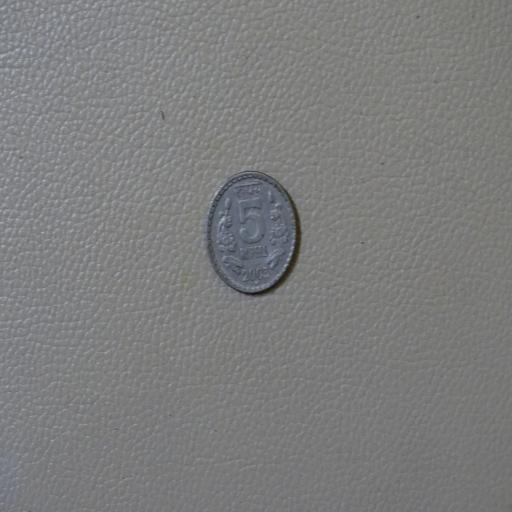rupee5: (204, 170, 298, 295)
